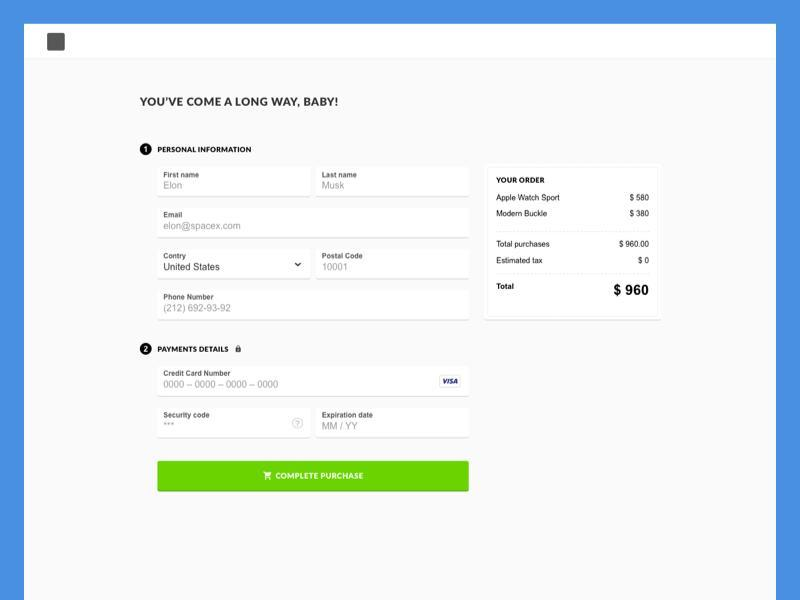button: (158, 461, 471, 492)
dropdown: (159, 249, 311, 278)
input: (160, 369, 472, 397), (157, 294, 468, 320), (159, 212, 468, 238), (317, 409, 469, 439), (320, 170, 471, 198), (316, 253, 466, 280), (159, 171, 310, 197), (159, 408, 310, 433)
label: (139, 92, 343, 114), (141, 143, 269, 157)
